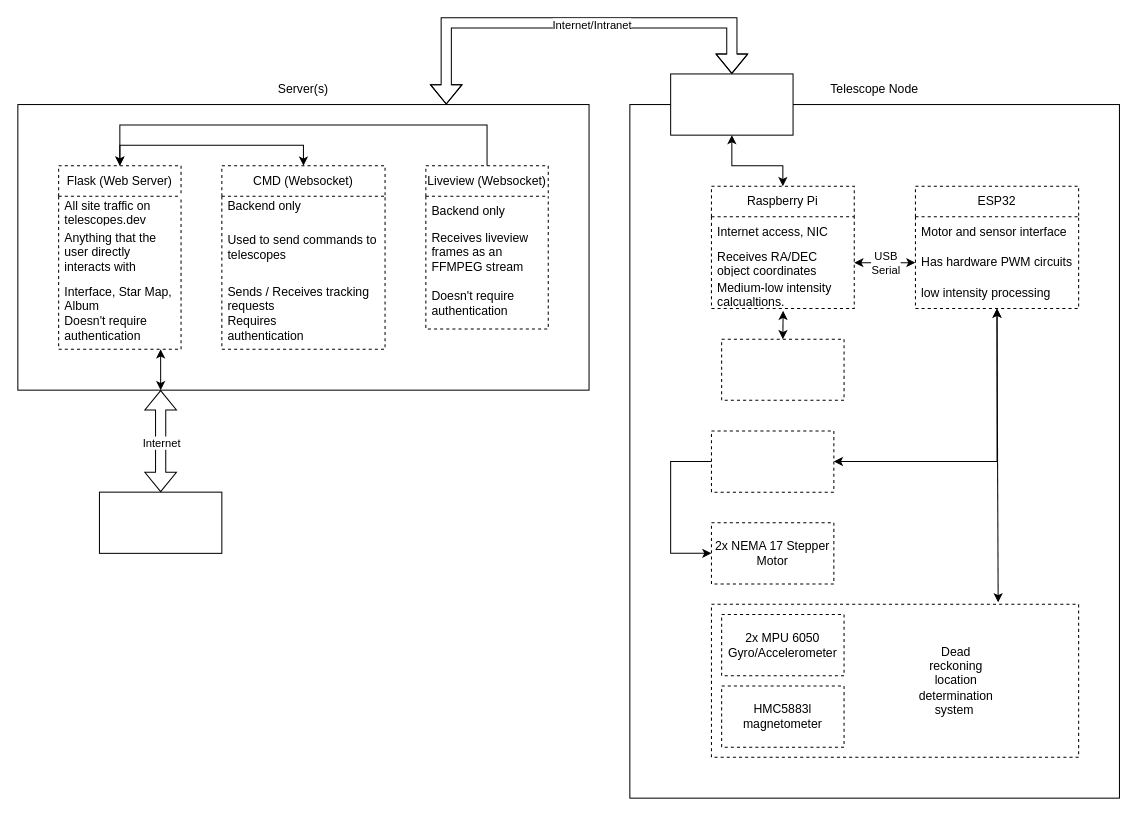
This 1137x816 diagram has some shape labels left out. The centre of each missing label's shape, as x and y in pixels:
2x Stepper Motor Drivers (TMC2209): (x=772, y=461)
Camera (USB - GPhoto2): (x=782, y=369)
Network Interface Card: (x=731, y=104)
User (Web Client): (x=160, y=522)
